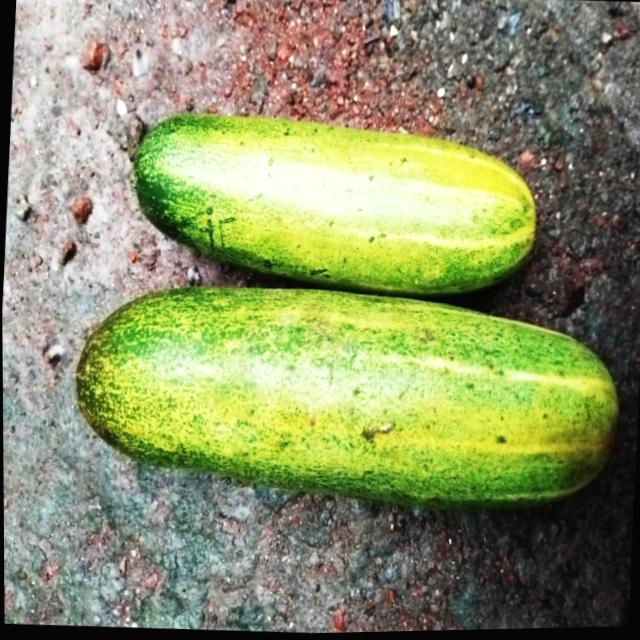Fresh-Cucumber: (65, 270, 626, 528), (125, 98, 545, 311)
